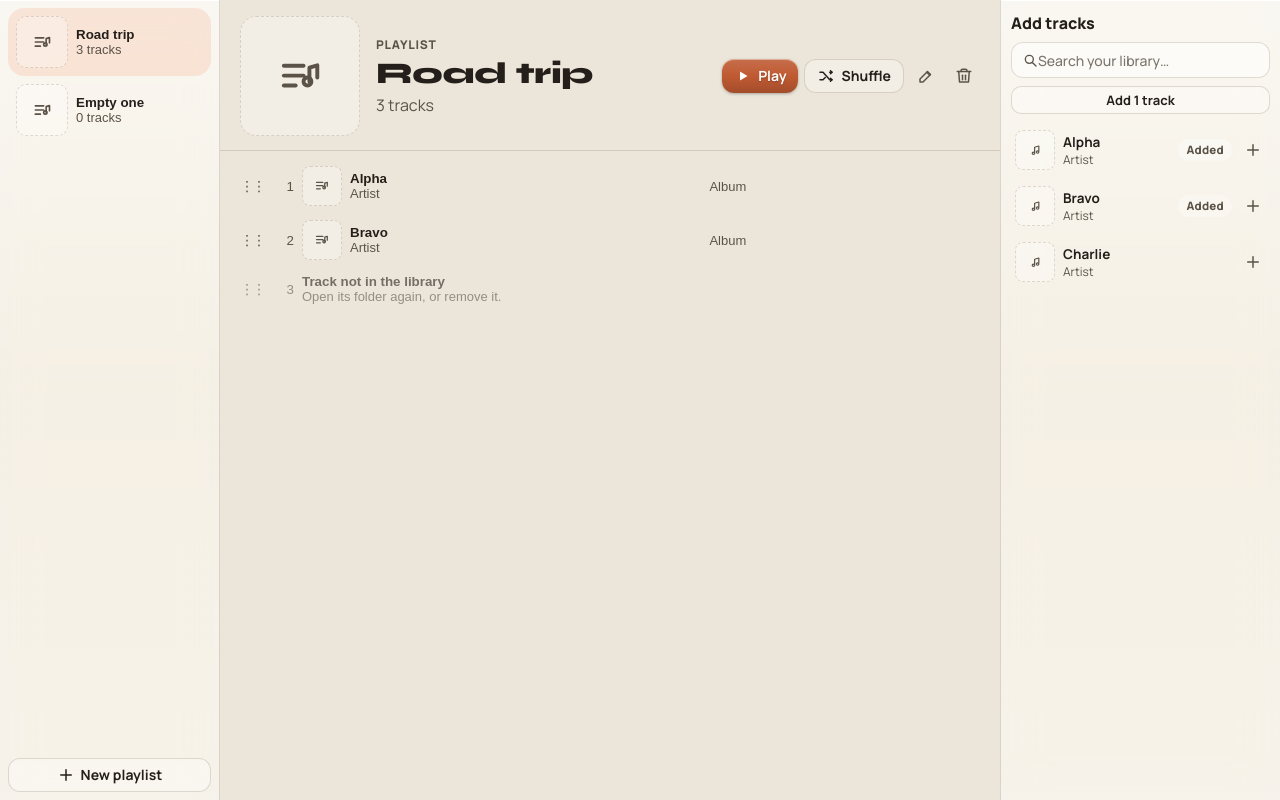
Test case: PlaylistsScreen › lists the playlists and switches between them
The width and height of the screenshot is (1280, 800).
Click the button "Empty one 0 tracks" at (110, 110), box [8,76,211,144]
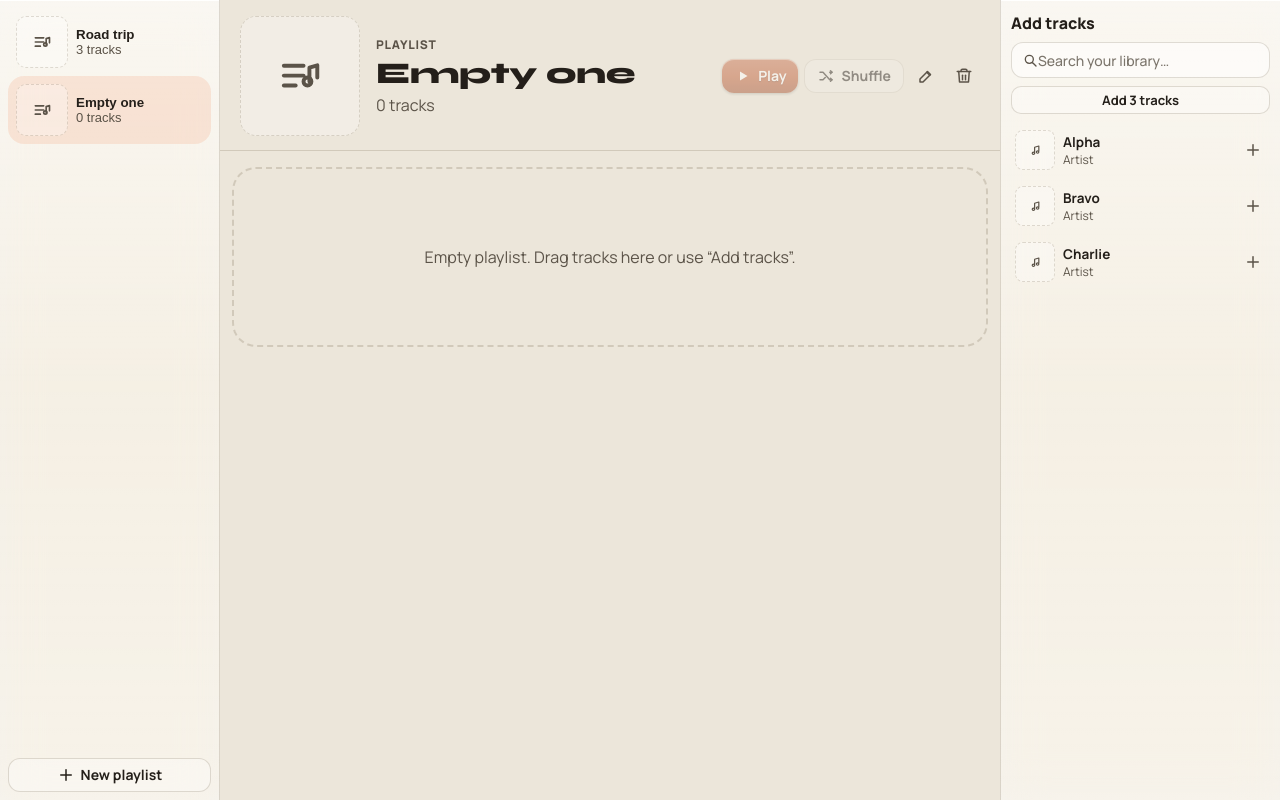
Expected: the text "Empty playlist. Drag tracks here or use “Add tracks”." is shown, [232,167,988,347]
